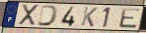1: (102, 6, 112, 29)
4: (60, 6, 76, 28)
D: (37, 4, 60, 27)
E: (118, 8, 142, 30)
K: (80, 6, 99, 28)
X: (18, 4, 40, 26)
